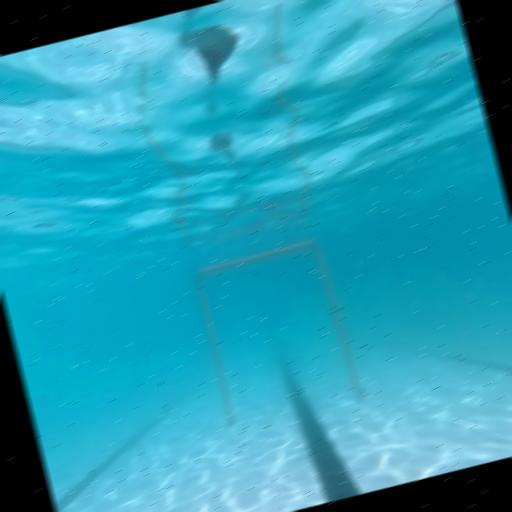gate: (191, 237, 366, 429)
